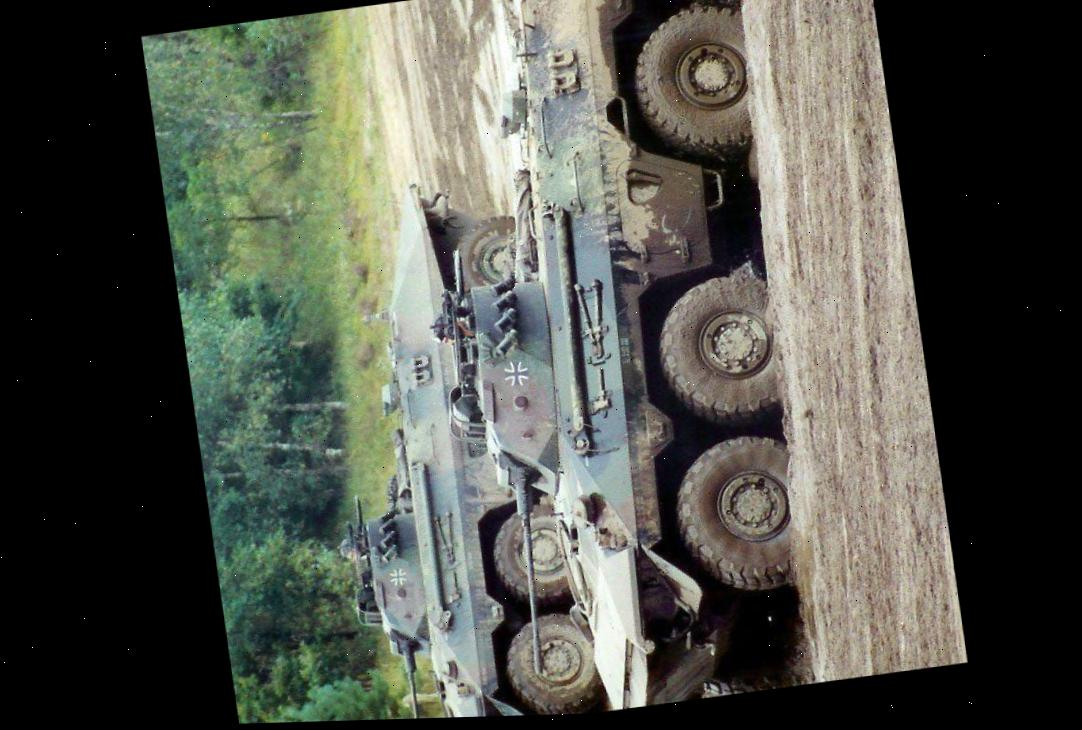tank: (386, 0, 842, 719), (289, 163, 608, 722)
